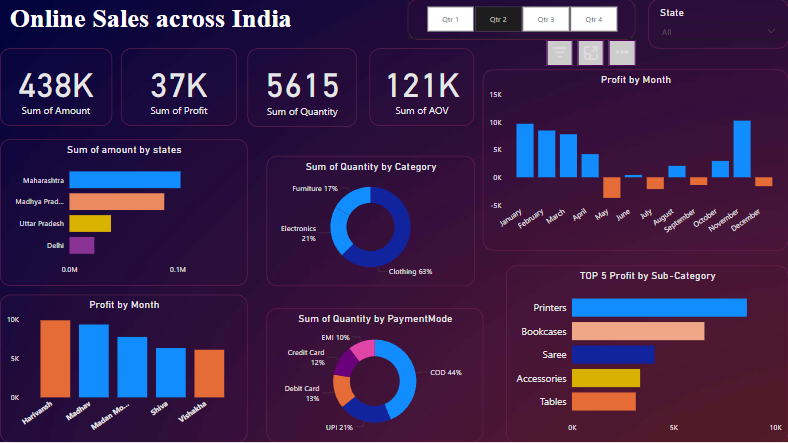

The page's visual inventory and layout, read from the dashboard file:
{"tool":"powerbi","page":{"name":"Page 1","canvas":[1280,720],"ordinal":0},"visuals":[{"type":"textbox","box":[0,0,593.4,80],"z":0},{"type":"columnChart","title":"Profit by Month","fields":{"Y":["Details.Profit"],"Category":["Orders (2).Order Date.Variation.Date Hierarchy.Month"]},"box":[784,114,496,294],"z":1000},{"type":"barChart","title":"TOP 5 Profit by Sub-Category","fields":{"Category":["Details.Sub-Category"],"Y":["Details.Profit"]},"box":[822,432,458,288],"z":2000},{"type":"donutChart","fields":{"Category":["Details.Category"],"Y":["Details.Quantity"]},"box":[432,254,338,212],"z":3000},{"type":"donutChart","fields":{"Y":["Details.Quantity"],"Category":["Details.PaymentMode"]},"box":[432,502,352,218],"z":4000},{"type":"card","fields":{"Values":["Details.Amount"]},"box":[0,80,182,126],"z":5000},{"type":"card","fields":{"Values":["Details.Profit"]},"box":[196,80,188,126],"z":6000},{"type":"card","fields":{"Values":["Details.Quantity"]},"box":[402,80,178,128],"z":7000},{"type":"card","fields":{"Values":["Details.AOV"]},"box":[600,80,170,126],"z":8000},{"type":"barChart","title":"Sum of amount by states","fields":{"Y":["Details.Amount"],"Category":["Orders (2).State"]},"box":[0,228,402,238],"z":9000},{"type":"columnChart","title":"Profit by Month","fields":{"Category":["Orders (2).CustomerName"],"Y":["Details.Amount"]},"box":[0,480,402,240],"z":10000},{"type":"slicer","fields":{"Values":["Orders (2).Order Date.Variation.Date Hierarchy.Quarter"]},"box":[662,0,370,66],"z":11000},{"type":"columnChart","fields":{"Category":["Orders (2).State"]},"box":[1052,0,228,80],"z":12000}]}

Visuals, with their boxes in screenshot pixels (x1, y1, x2, y2), scaled from the page's 1280x720 canvas onto the 788x443 screenshot:
textbox: 0:0:365:49
"Profit by Month" columnChart: 483:70:787:251
"TOP 5 Profit by Sub-Category" barChart: 506:266:787:442
donutChart - Details.Category x Details.Quantity: 266:156:474:287
donutChart - Details.Quantity x Details.PaymentMode: 266:309:483:442
card - Details.Amount: 0:49:112:127
card - Details.Profit: 121:49:236:127
card - Details.Quantity: 247:49:357:128
card - Details.AOV: 369:49:474:127
"Sum of amount by states" barChart: 0:140:247:287
"Profit by Month" columnChart: 0:295:247:442
slicer - Orders (2).Order Date.Variation.Date Hierarchy.Quarter: 408:0:635:41
columnChart - Orders (2).State: 648:0:787:49
